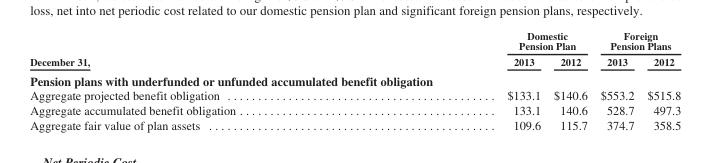table: (29, 29, 680, 131)
table column: (29, 29, 370, 131), (370, 29, 546, 131), (546, 29, 593, 131), (593, 29, 640, 131), (640, 29, 680, 131)
table column header: (29, 29, 680, 69)
table projected row header: (29, 69, 680, 87)
table row: (29, 29, 680, 53), (29, 69, 680, 87), (29, 53, 680, 69), (29, 87, 680, 102), (29, 102, 680, 117), (29, 117, 680, 131)
table spanning cell: (29, 29, 370, 69), (370, 29, 593, 53), (593, 29, 680, 53)
